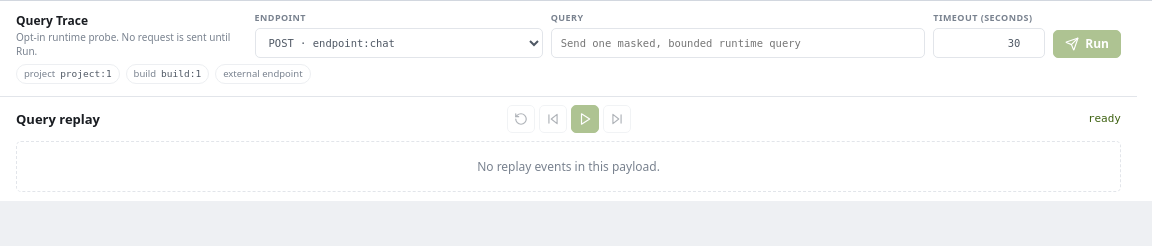
Test: QueryTracePanel › preserves request and error events from a partial timeout result
The width and height of the screenshot is (1152, 246).
Type "trace once" into the field labelled "Query" at (738, 43), box [551,28,925,58]
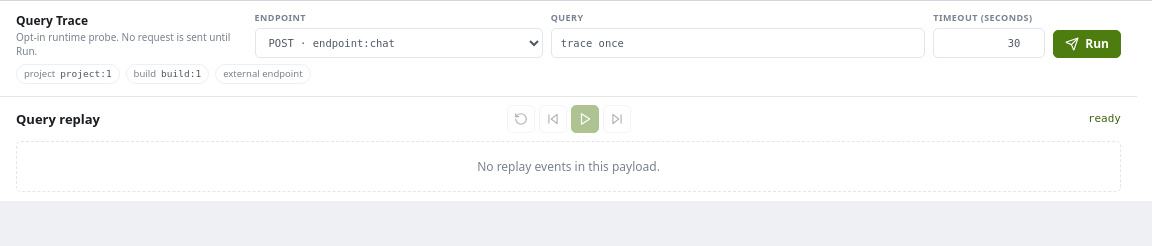
Click the button "Run" at (1087, 44), box [1053,30,1121,58]
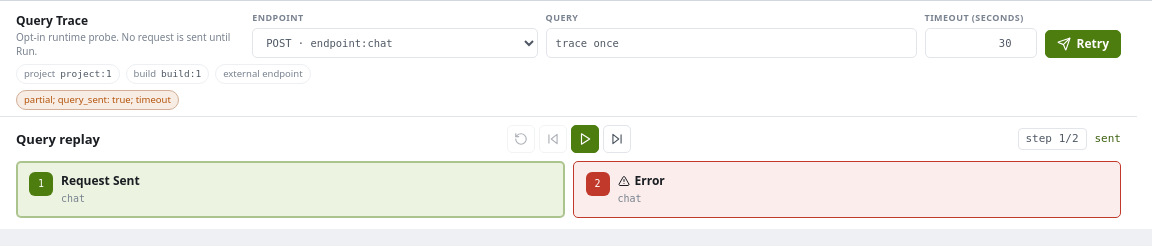
Result: the number of buttons with class "tl-step" is 2 at [16,161,564,218]; [572,161,1121,218]
Result: the text "partial; query_sent: true; timeout" is shown at [16,90,179,110]
Result: the text "Request Sent" is shown at [61,172,140,189]
